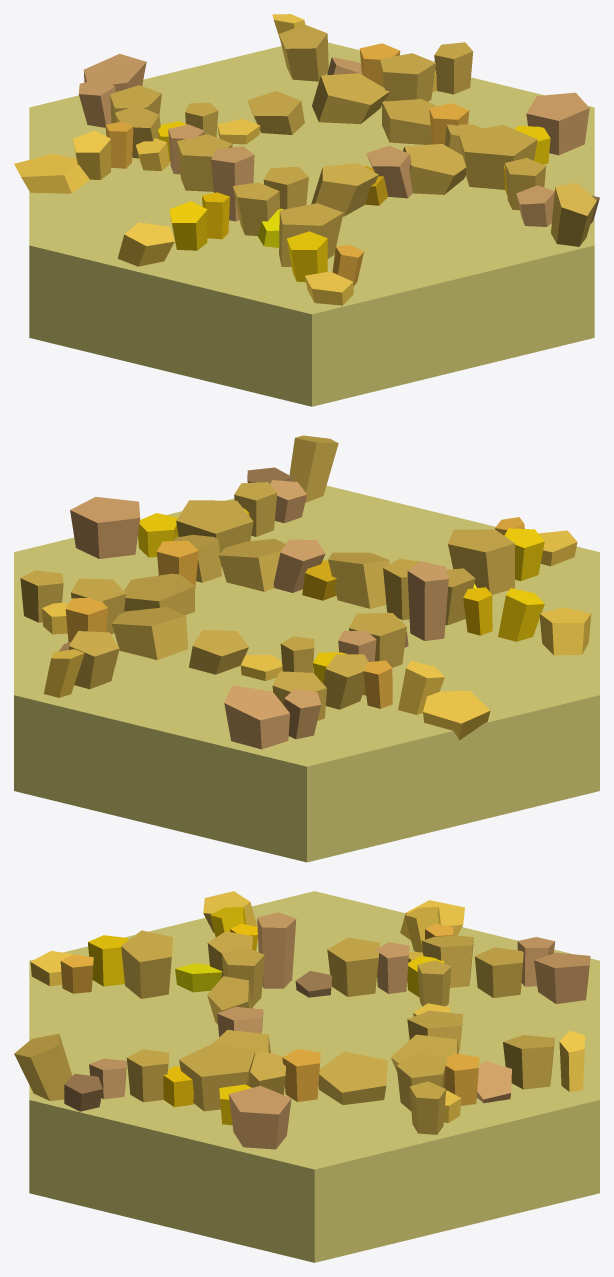
The picture shows the model from 3 angles, top to bottom: view 1: azimuth 30°, elevation 25°; view 2: azimuth 150°, elevation 25°; view 3: azimuth 270°, elevation 25°; orthographic projection. The views are drawn at different scales.
Parts seen in each view (by area): view 1: 物件_1, 物件_29, 物件_61, 物件_36, 物件_27, 物件_23, 物件_5, 物件_39, 物件_58, 物件_62, 物件_51, 物件_38 (+29 smaller); view 2: 物件_1, 物件_36, 物件_5, 物件_43, 物件_61, 物件_19, 物件_29, 物件_23, 物件_27, 物件_38, 物件_51, 物件_62 (+30 smaller); view 3: 物件_1, 物件_36, 物件_29, 物件_38, 物件_5, 物件_62, 物件_49, 物件_19, 物件_43, 物件_58, 物件_42, 物件_31 (+32 smaller).
Part boxes in pixels (<box>): 物件_1: <box>29,42,594,406</box>; 物件_29: <box>458,125,537,189</box>; 物件_61: <box>312,73,389,124</box>; 物件_36: <box>526,92,589,155</box>; 物件_27: <box>403,144,466,194</box>; 物件_23: <box>311,163,378,216</box>; 物件_5: <box>279,203,343,266</box>; 物件_39: <box>380,53,435,101</box>; 物件_58: <box>279,24,328,81</box>; 物件_62: <box>551,182,596,246</box>; 物件_51: <box>14,154,89,193</box>; 物件_38: <box>382,99,436,144</box>; 物件_1: <box>14,485,599,862</box>; 物件_36: <box>70,497,140,558</box>; 物件_5: <box>448,529,514,594</box>; 物件_43: <box>224,685,289,749</box>; 物件_61: <box>112,607,188,660</box>; 物件_19: <box>407,561,448,640</box>; 物件_29: <box>176,500,253,566</box>; 物件_23: <box>328,552,389,608</box>; 物件_27: <box>218,538,285,591</box>; 物件_38: <box>124,573,194,615</box>; 物件_51: <box>423,691,490,740</box>; 物件_62: <box>289,435,338,502</box>; 物件_1: <box>29,891,599,1262</box>; 物件_36: <box>228,1086,291,1149</box>; 物件_29: <box>179,1043,255,1111</box>; 物件_38: <box>318,1051,387,1104</box>; 物件_5: <box>121,930,172,998</box>; 物件_62: <box>14,1034,72,1100</box>; 物件_49: <box>327,937,379,996</box>; 物件_19: <box>257,912,296,988</box>; 物件_43: <box>534,952,590,1003</box>; 物件_58: <box>503,1035,554,1089</box>; 物件_42: <box>475,947,523,997</box>; 物件_31: <box>126,1049,169,1102</box>.
Bounding box in the file's own units: 128 × 114 × 33.24.
